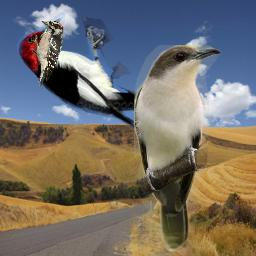Cuckoo: (134, 45, 222, 253)
Woodpecker: (2, 12, 166, 135), (31, 21, 64, 89)
